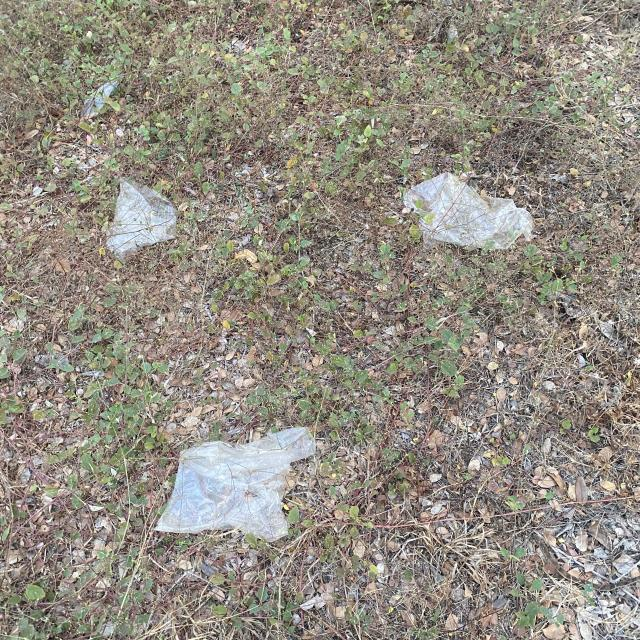Single-layer Plastic: (155, 428, 315, 541), (404, 172, 534, 249), (106, 179, 176, 258)
